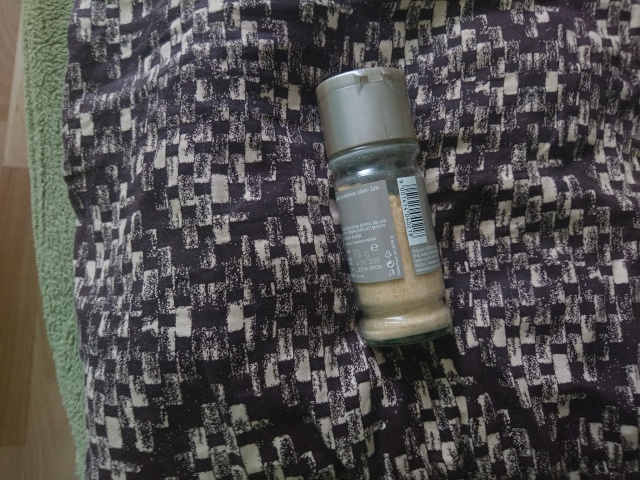Kotanyi Garlic Granules 70g: (312, 64, 456, 350)
